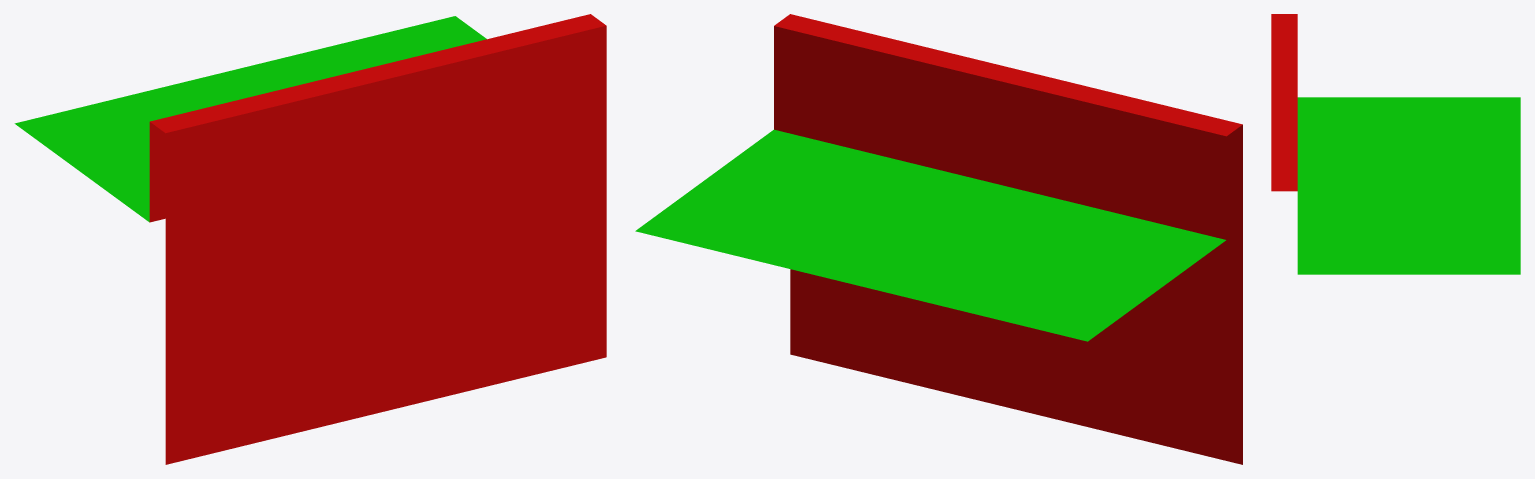
3 renders of one model, left to right at view 1: azimuth 30°, elevation 25°; view 2: azimuth 150°, elevation 25°; view 3: azimuth 270°, elevation 25°, orthographic. The views are drawn at different scales.
Parts seen in each view (by area): view 1: None_W_E_E_E_W_E_E_E_None; view 2: None_W_E_E_E_W_E_E_E_None; view 3: None_W_E_E_E_W_E_E_E_None.
Boxes of the visible parts, box(x1,y1,x2,y2) form: None_W_E_E_E_W_E_E_E_None: box(14, 14, 606, 464); None_W_E_E_E_W_E_E_E_None: box(635, 14, 1242, 464); None_W_E_E_E_W_E_E_E_None: box(1271, 14, 1520, 274).
Bounding box in the file's own units: 100 × 71.88 × 59.38.
